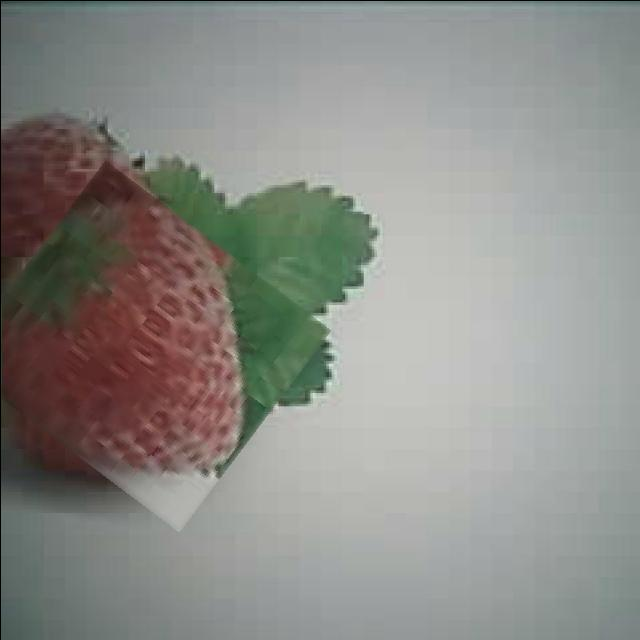strawberry: (0, 189, 307, 501)
